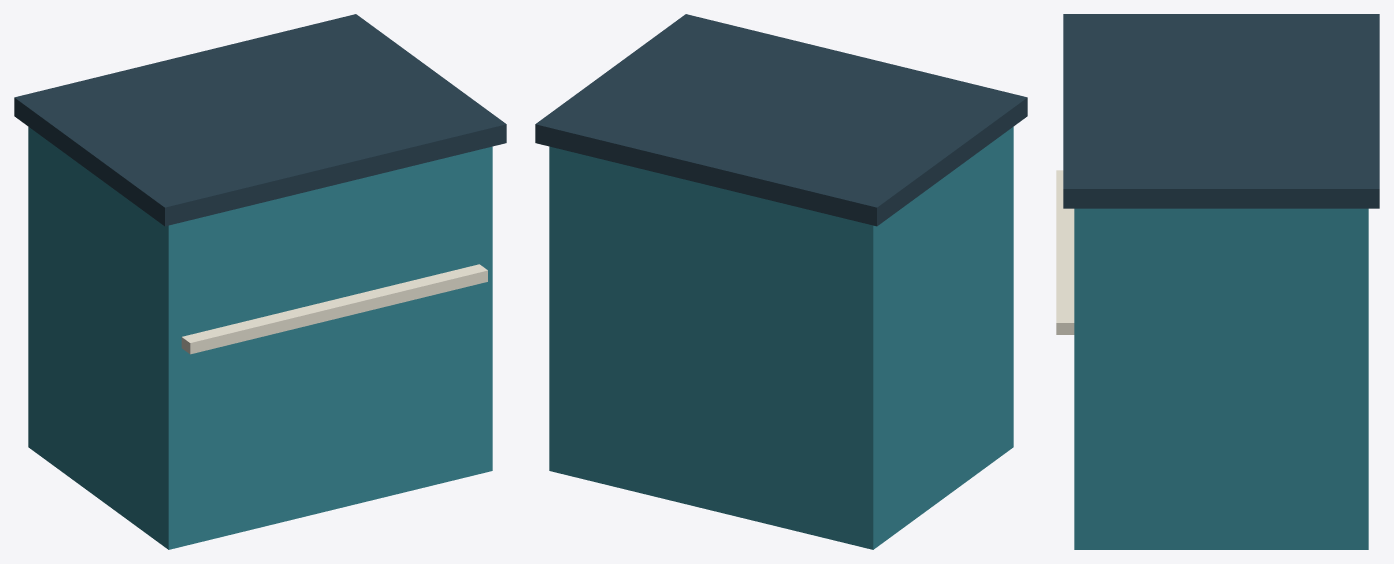
File: salon.dae
3 renders of one model, left to right at view 1: azimuth 30°, elevation 25°; view 2: azimuth 150°, elevation 25°; view 3: azimuth 270°, elevation 25°, orthographic. The views are drawn at different scales.
Parts seen in each view (by area): view 1: main, roof, canopy; view 2: main, roof; view 3: main, roof, canopy.
Part boxes in pixels (x1,y1,x2,y2): main: (28,127,492,549); roof: (14,14,506,226); canopy: (181,264,487,354); main: (549,127,1013,549); roof: (535,14,1027,226); main: (1074,208,1368,549); roof: (1063,14,1379,208); canopy: (1056,170,1074,334).
Bounding box in the file's own units: 7.6 × 5.93 × 7.4.
